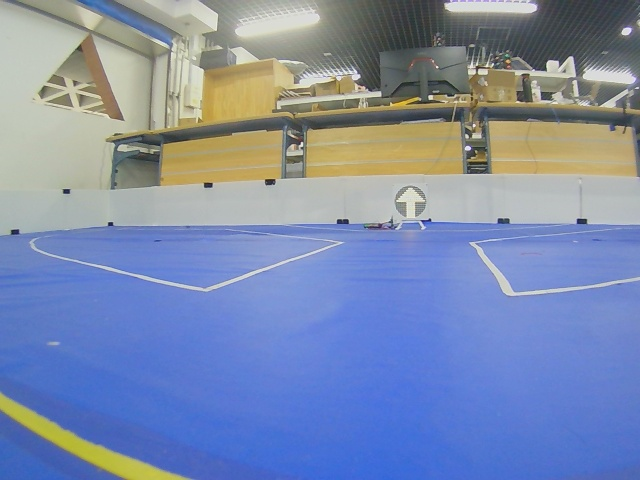straight_yellow: (395, 186, 426, 219)
